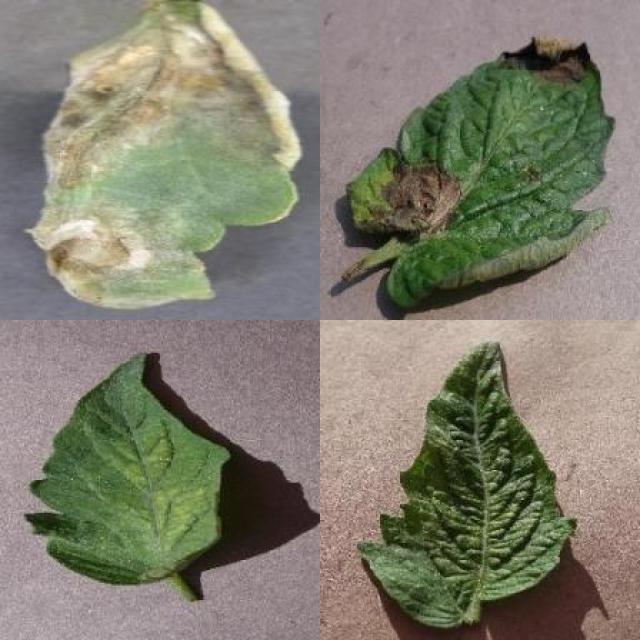Late Blight: (25, 0, 304, 310), (346, 36, 616, 310)
Spider Mites: (358, 340, 576, 630), (25, 352, 232, 588)
